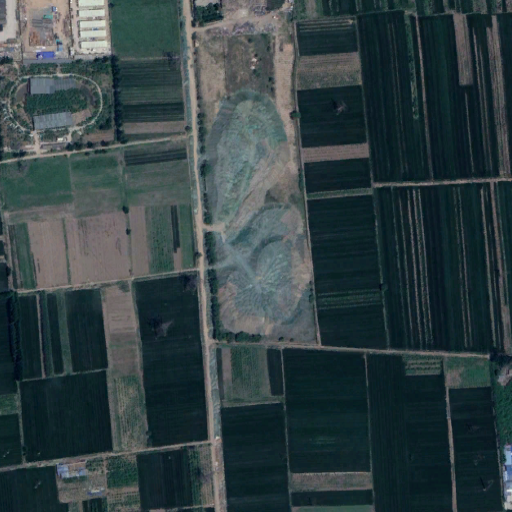cw: (195, 29, 317, 342)
